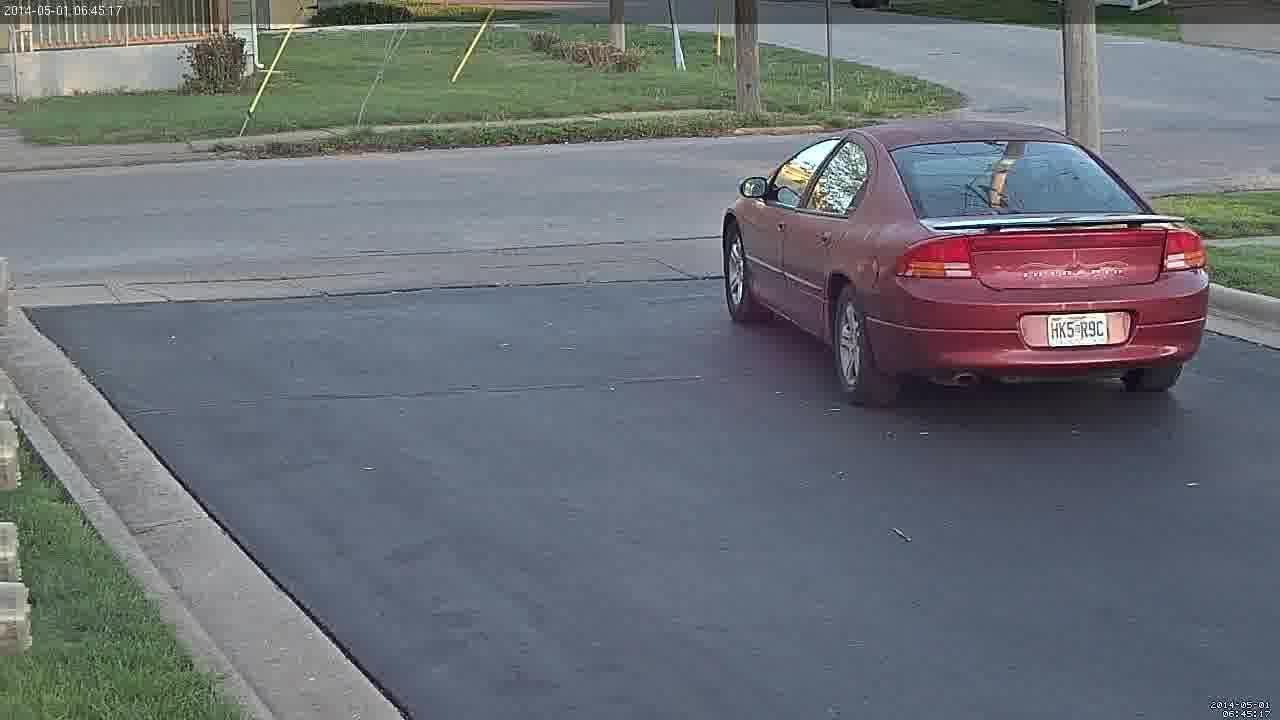placa de veiculo: (1025, 296, 1135, 358)
